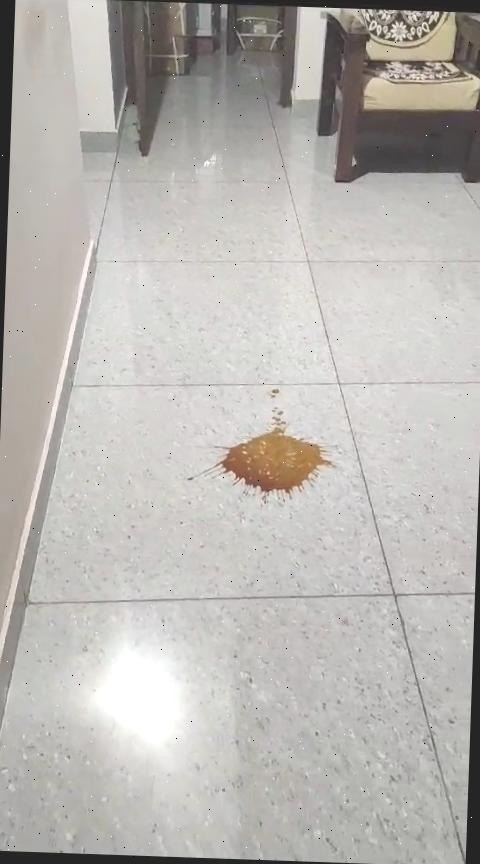dirty_floor: (188, 386, 342, 502)
